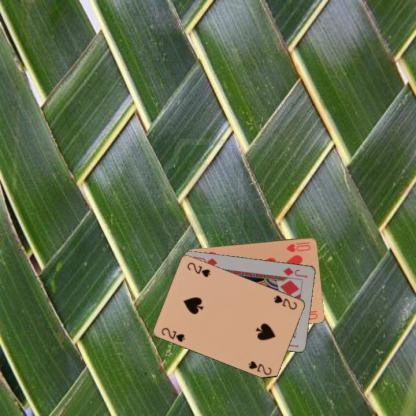10h: (284, 239, 311, 253)
2s: (159, 325, 187, 343), (271, 292, 298, 310)
Jd: (280, 264, 308, 280)
